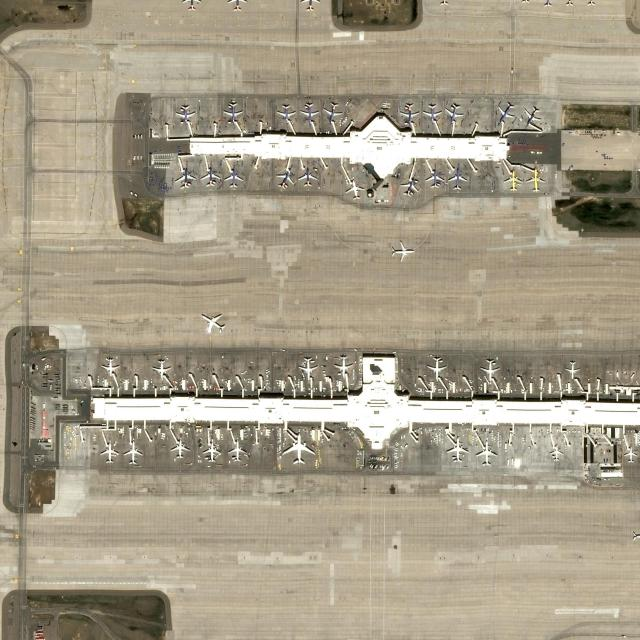1: (222, 1, 250, 13), (296, 0, 321, 12), (178, 0, 202, 12), (540, 0, 555, 10), (584, 0, 600, 8), (563, 0, 575, 10)
aircraft: (281, 433, 316, 465), (198, 311, 225, 335), (474, 441, 498, 467), (446, 438, 468, 466), (222, 100, 246, 123), (274, 102, 298, 124), (444, 100, 466, 124), (168, 439, 192, 461), (332, 354, 354, 377), (227, 440, 250, 462), (426, 356, 447, 380), (98, 440, 119, 464), (422, 102, 444, 124), (343, 179, 365, 201), (324, 100, 344, 124), (526, 168, 546, 192), (390, 241, 414, 261), (148, 358, 172, 378), (202, 440, 222, 464), (122, 442, 142, 466), (299, 101, 321, 122), (297, 166, 318, 188), (174, 168, 196, 189), (174, 104, 197, 124), (400, 101, 420, 124), (448, 167, 468, 190), (200, 165, 220, 188), (480, 357, 500, 380), (502, 170, 524, 190), (423, 168, 443, 190), (398, 177, 420, 197), (298, 356, 318, 378), (496, 103, 516, 124), (100, 357, 120, 377), (524, 105, 542, 127), (224, 166, 242, 188), (275, 168, 294, 188), (621, 446, 638, 466), (564, 360, 580, 381), (548, 444, 564, 462)
